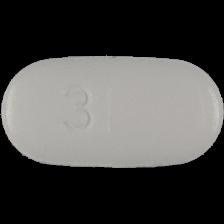49999-957: (0, 0, 224, 224)
